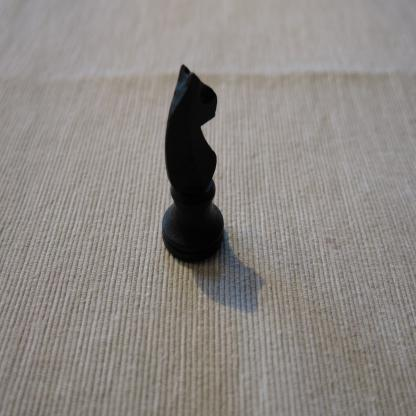black-knight: (161, 63, 225, 264)
